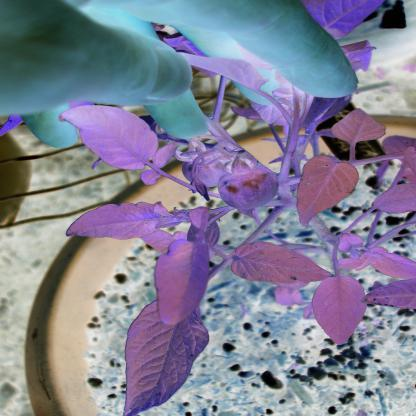Tomato leaf bacterial spot: (107, 293, 234, 416), (55, 98, 170, 184), (220, 237, 333, 296), (50, 187, 150, 252), (282, 154, 370, 220), (304, 271, 374, 352), (152, 237, 209, 332), (346, 240, 416, 282)
